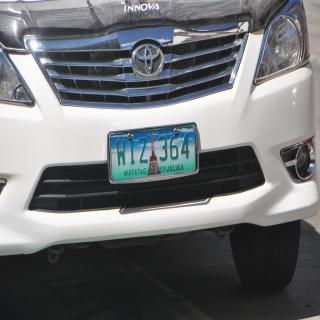license: (109, 125, 200, 184)
